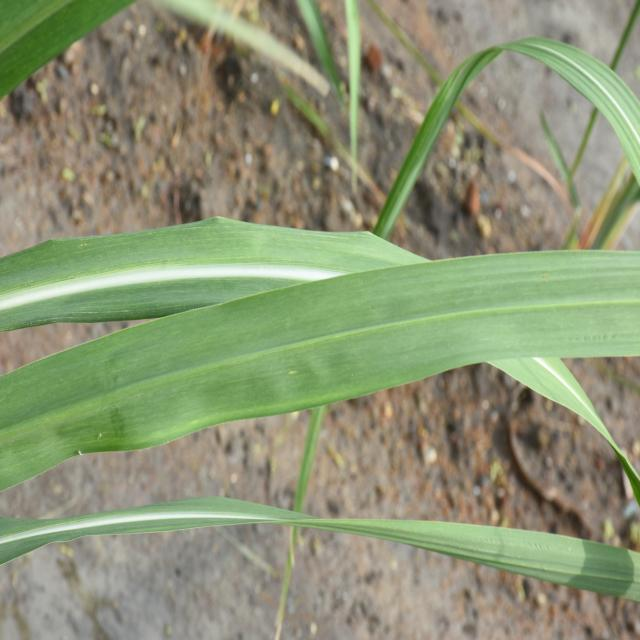Sugarcane: (0, 249, 640, 495)
